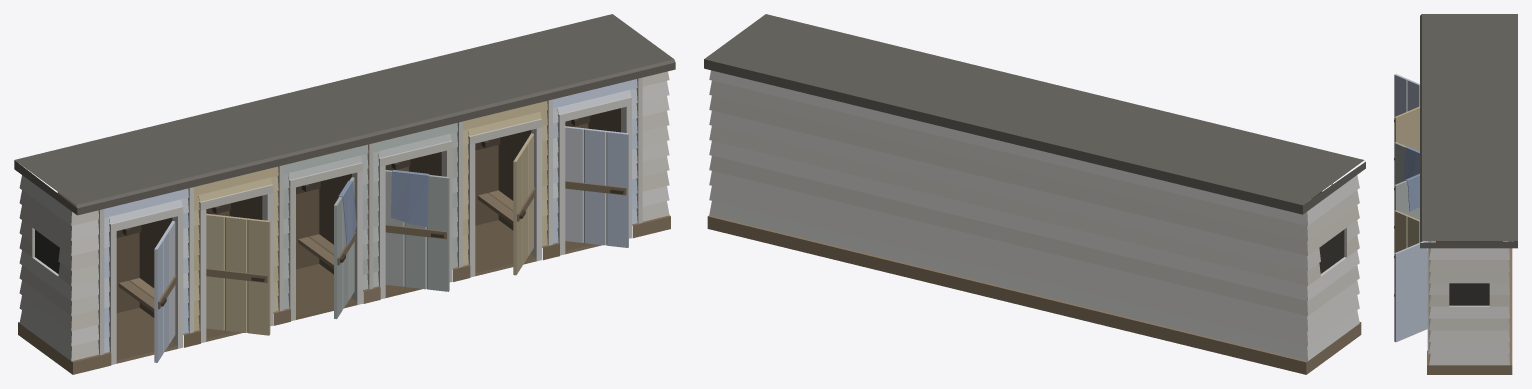
The model's file is changing-cubicle-row-5bac7f.glb.
The picture shows the model from 3 angles, left to right: view 1: azimuth 30°, elevation 25°; view 2: azimuth 150°, elevation 25°; view 3: azimuth 270°, elevation 25°; orthographic projection. The views are drawn at different scales.
Parts seen in each view (by area): view 1: changing-cubicle-row-5bac7f; view 2: changing-cubicle-row-5bac7f; view 3: changing-cubicle-row-5bac7f.
Boxes of the visible parts, x1,y1,x2,y2 form: changing-cubicle-row-5bac7f: [14, 14, 675, 374]; changing-cubicle-row-5bac7f: [704, 14, 1365, 374]; changing-cubicle-row-5bac7f: [1394, 14, 1517, 374].
Bounding box in the file's own units: 8 × 2.2 × 1.84.
